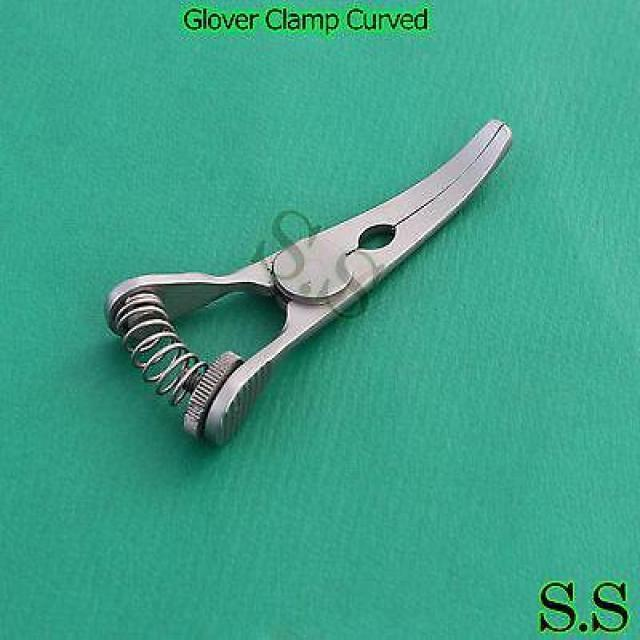Bulldog: (99, 114, 517, 454)
